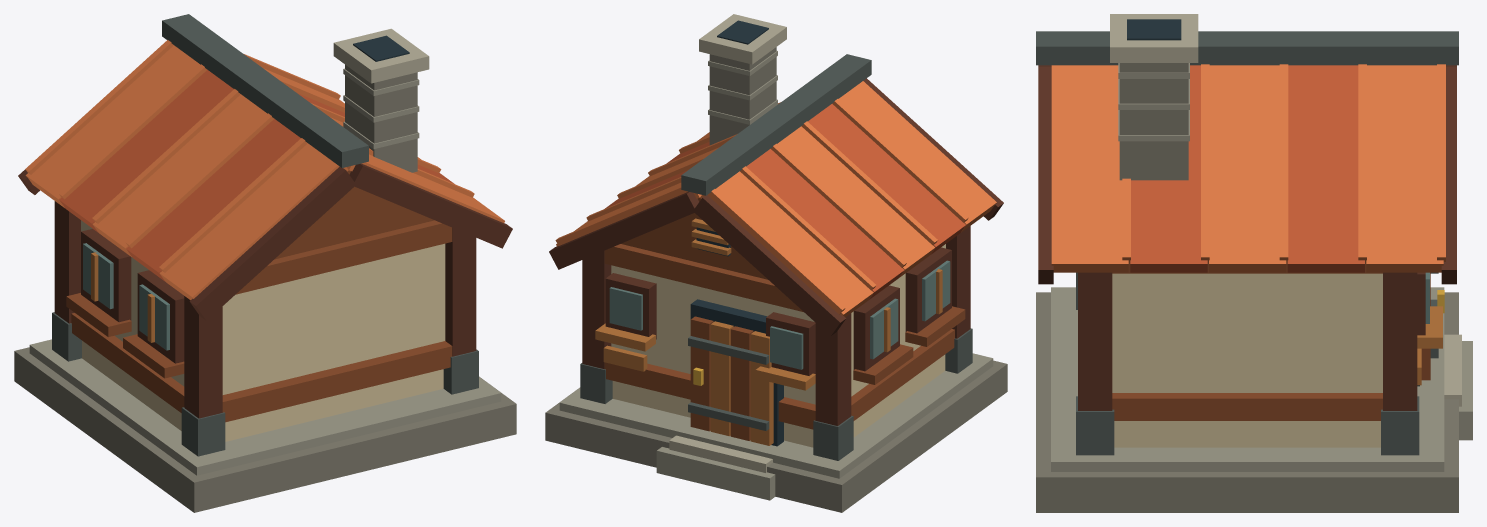
The model's file is sample_core.glb.
The picture shows the model from 3 angles, left to right: view 1: azimuth 30°, elevation 25°; view 2: azimuth 150°, elevation 25°; view 3: azimuth 270°, elevation 25°; orthographic projection. The views are drawn at different scales.
Visible parts, largest first — view 1: plaster, foundation, foundation_cap, ridge_cap, sheet_roof.004, sheet_roof.001, sheet_roof.002, sheet_roof, sheet_roof.003, horizontal_beam.002, fascia.001, horizontal_beam.003 (+25 smaller); view 2: foundation, plaster, foundation_cap, ridge_cap, sheet_roof.004, sheet_roof.003, sheet_roof, sheet_roof.002, sheet_roof.001, horizontal_beam.001, fascia, chimney (+44 smaller); view 3: plaster, foundation, foundation_cap, sheet_roof.006, sheet_roof.007, sheet_roof.005, sheet_roof.009, ridge_cap, sheet_roof.008, side_beam.002, chimney, structural_post.002 (+20 smaller).
Boxes of the visible parts, box(x1,y1,x2,y2) form: plaster: box(81, 220, 445, 441); foundation: box(14, 347, 516, 512); foundation_cap: box(29, 339, 501, 475); ridge_cap: box(162, 14, 368, 167); sheet_roof.004: box(159, 143, 348, 300); sheet_roof.001: box(59, 70, 233, 232); sheet_roof.002: box(92, 94, 267, 256); sheet_roof: box(25, 45, 200, 207); sheet_roof.003: box(126, 119, 300, 281); horizontal_beam.002: box(222, 341, 452, 422); fascia.001: box(189, 166, 355, 320); horizontal_beam.003: box(236, 220, 452, 294); foundation: box(545, 360, 1007, 512); plaster: box(611, 244, 945, 447); foundation_cap: box(559, 353, 993, 478); ridge_cap: box(681, 54, 871, 195); sheet_roof.004: box(839, 81, 996, 232); sheet_roof.003: box(808, 104, 965, 254); sheet_roof: box(700, 171, 873, 317); sheet_roof.002: box(777, 126, 935, 277); sheet_roof.001: box(746, 149, 904, 299); horizontal_beam.001: box(604, 244, 803, 311); fascia: box(693, 195, 845, 335); chimney: box(709, 47, 776, 145); plaster: box(1112, 273, 1382, 447); foundation: box(1036, 292, 1458, 512); foundation_cap: box(1051, 287, 1444, 471); sheet_roof.006: box(1287, 65, 1364, 272); sheet_roof.007: box(1209, 65, 1286, 272); sheet_roof.005: box(1366, 65, 1443, 272); sheet_roof.009: box(1051, 65, 1128, 272); ridge_cap: box(1036, 31, 1458, 65); sheet_roof.008: box(1130, 65, 1207, 272); side_beam.002: box(1112, 393, 1382, 420); chimney: box(1119, 63, 1188, 180); structural_post.002: box(1383, 272, 1417, 410).
Bounding box in the file's own units: 0.89 × 0.976 × 0.888.
